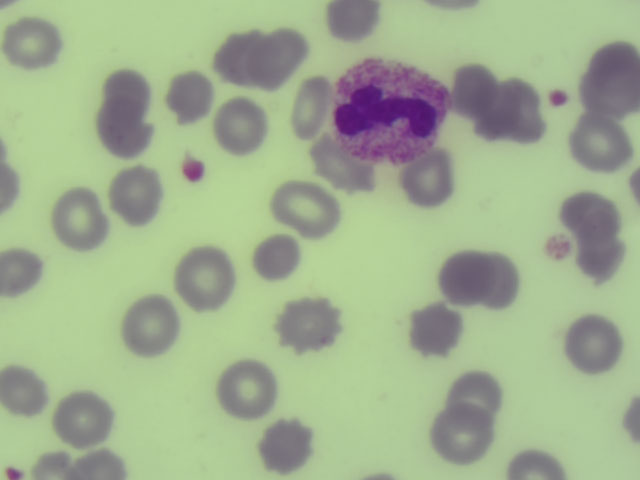Platelets: (180, 160, 204, 183), (545, 237, 569, 259), (550, 92, 566, 103)
RBC: (271, 174, 347, 236), (173, 246, 238, 311), (109, 160, 174, 225), (439, 359, 504, 424), (430, 400, 495, 465), (568, 113, 633, 178), (575, 53, 640, 118), (482, 80, 547, 145), (313, 143, 378, 208), (273, 74, 338, 139), (435, 60, 500, 125), (395, 150, 460, 215), (402, 294, 467, 359), (213, 355, 278, 420), (50, 384, 115, 449), (275, 289, 340, 354), (247, 24, 312, 89), (208, 95, 273, 160), (564, 313, 629, 378), (7, 15, 72, 80), (42, 188, 106, 250), (90, 94, 154, 151), (123, 293, 180, 355), (438, 247, 495, 304), (257, 413, 313, 471), (591, 36, 640, 98), (466, 252, 520, 307), (1, 356, 48, 419), (575, 226, 624, 285), (319, 1, 385, 44), (1, 234, 45, 298), (164, 70, 215, 124), (96, 64, 154, 109), (562, 192, 619, 237), (254, 233, 303, 281), (504, 446, 570, 480), (20, 446, 81, 480), (73, 448, 128, 480), (1, 143, 25, 214), (614, 394, 640, 451), (424, 1, 486, 15), (349, 471, 408, 480)
WBC: (335, 61, 453, 161)
